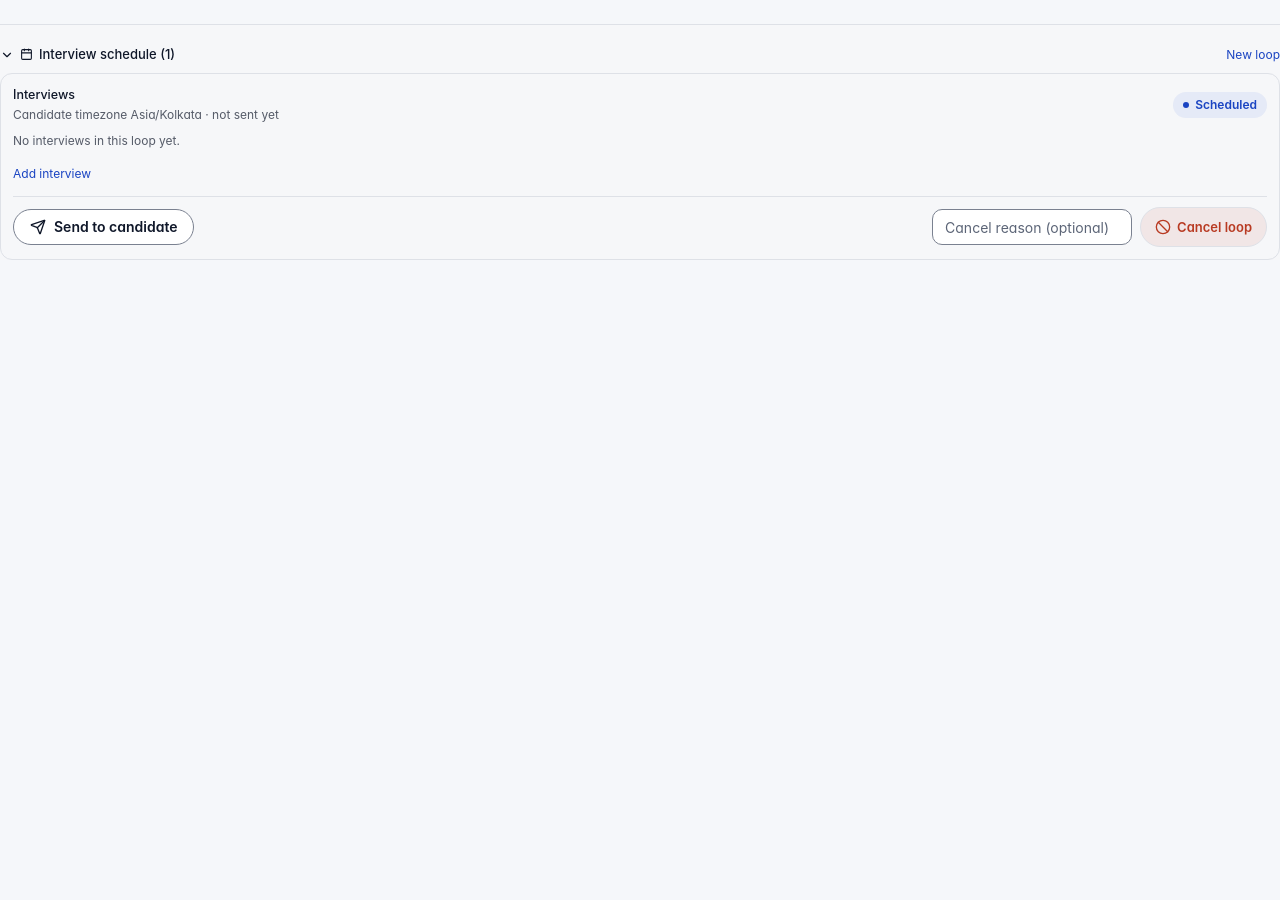
Test: InterviewLoopsSection - form limits (IV-M2, IV-L10) › shows a failed interviewer list as an error, not "no interviewers"
Click the button "Add interview": (52, 174) [13, 165, 91, 183]
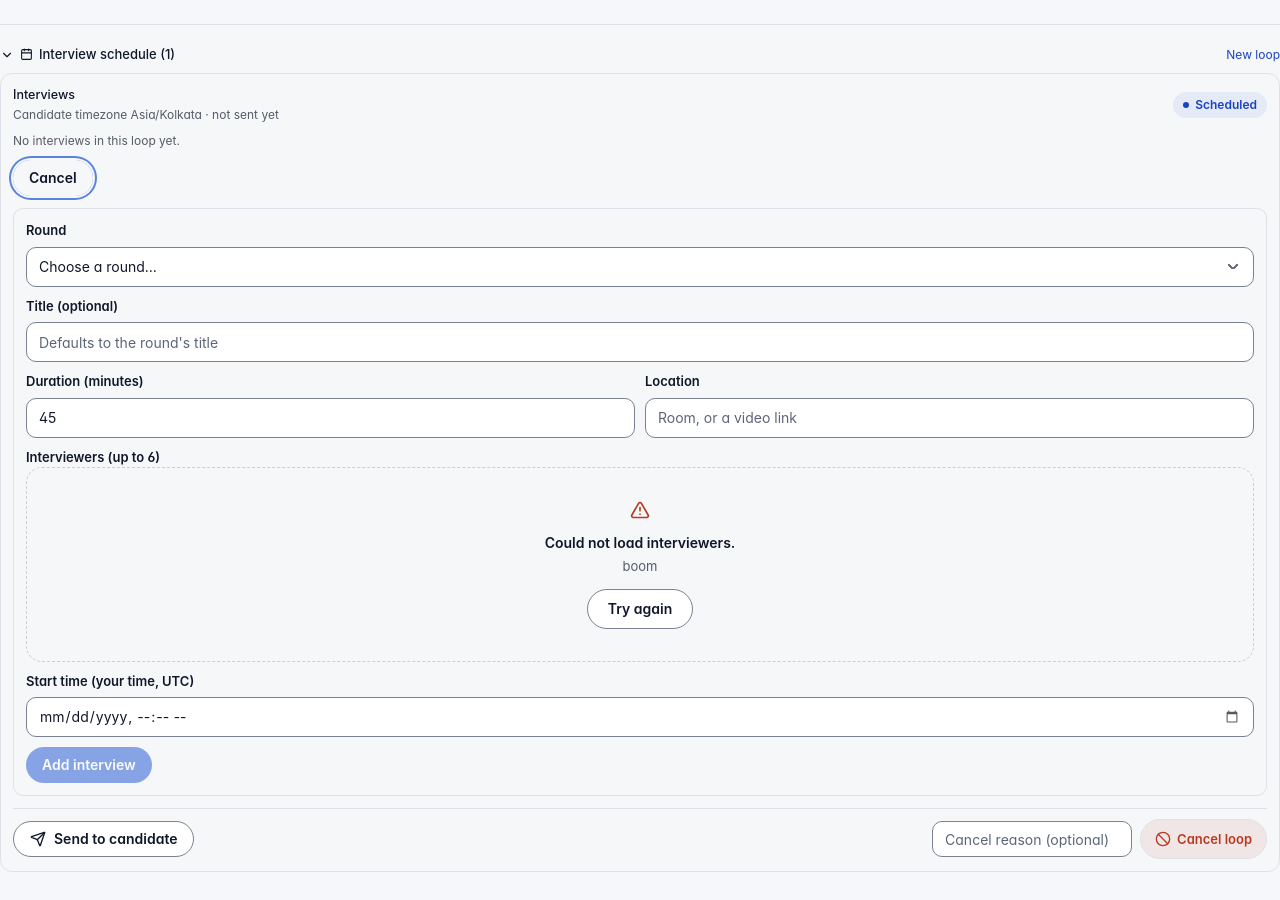
Expected: the text "Could not load interviewers." is shown, [545, 532, 735, 553]
